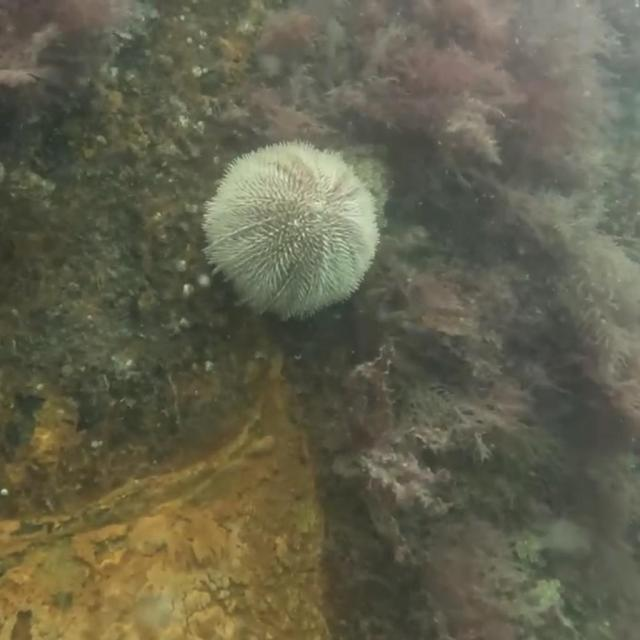Deniz Kestanesi: (201, 140, 381, 319)
